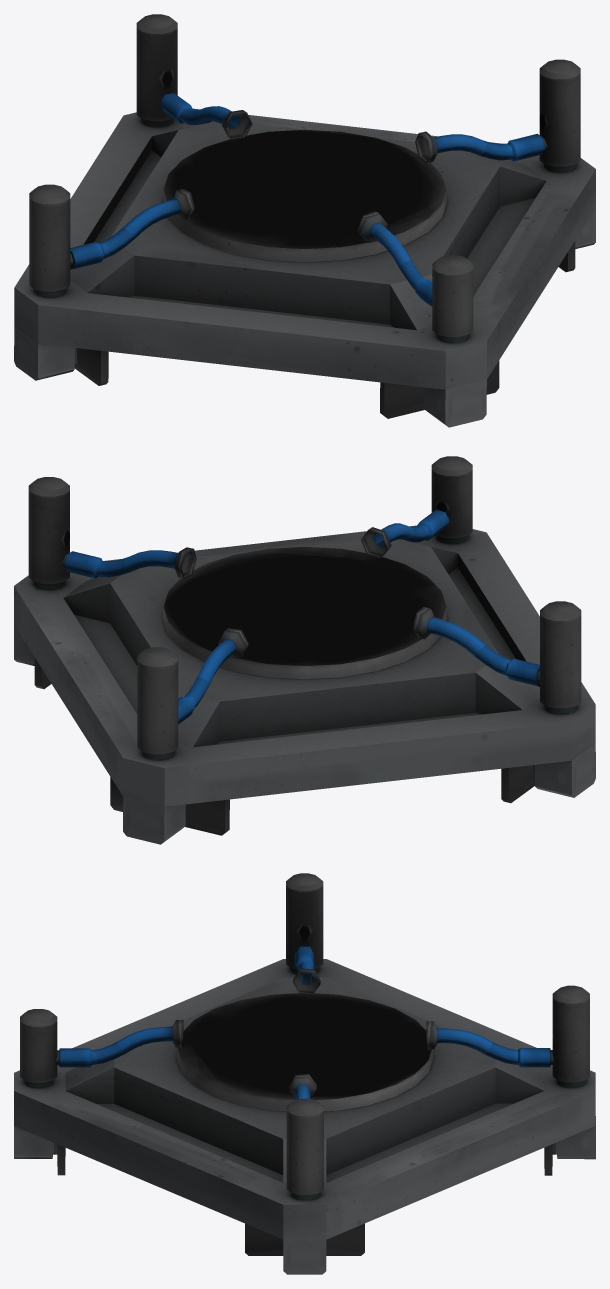
File: Claw.glb
3 views of the same model, one above another, from view 1: azimuth 30°, elevation 25°; view 2: azimuth 150°, elevation 25°; view 3: azimuth 270°, elevation 25° (orthographic). The views are drawn at different scales.
Parts seen in each view (by area): view 1: Claw; view 2: Claw; view 3: Claw.
Boxes of the visible parts, left/top/right/bottom form: Claw: left=14, top=14, right=595, bottom=427; Claw: left=14, top=456, right=595, bottom=844; Claw: left=14, top=873, right=595, bottom=1274.
Bounding box in the file's own units: 0.4531 × 0.1373 × 0.4531.
Materials: 1 (1 with a texture image).
